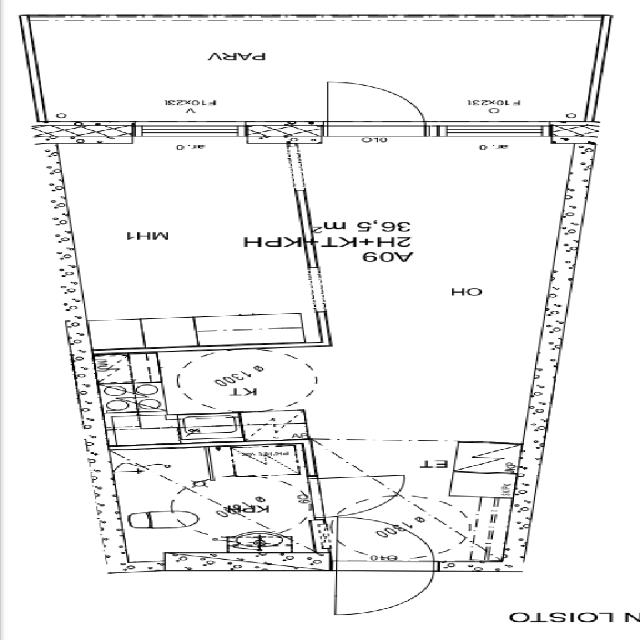door: (316, 76, 430, 129), (329, 563, 436, 617)
window: (126, 118, 252, 143), (421, 118, 563, 140)
zone: (31, 135, 318, 346), (105, 448, 318, 569), (316, 439, 517, 562), (166, 347, 314, 413), (118, 413, 249, 444), (214, 443, 303, 478), (240, 410, 309, 440)
